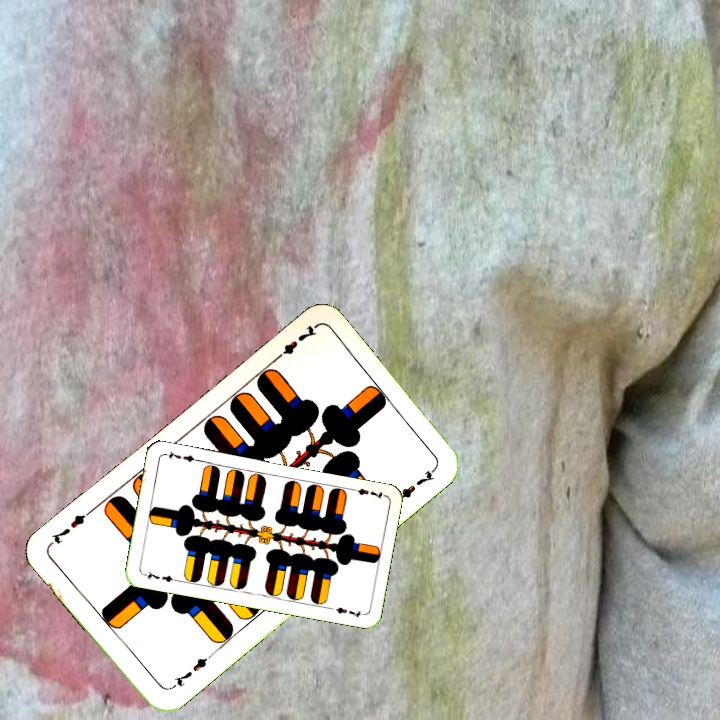E7: (270, 321, 319, 365), (165, 650, 215, 693), (139, 567, 180, 585), (346, 484, 387, 502)
